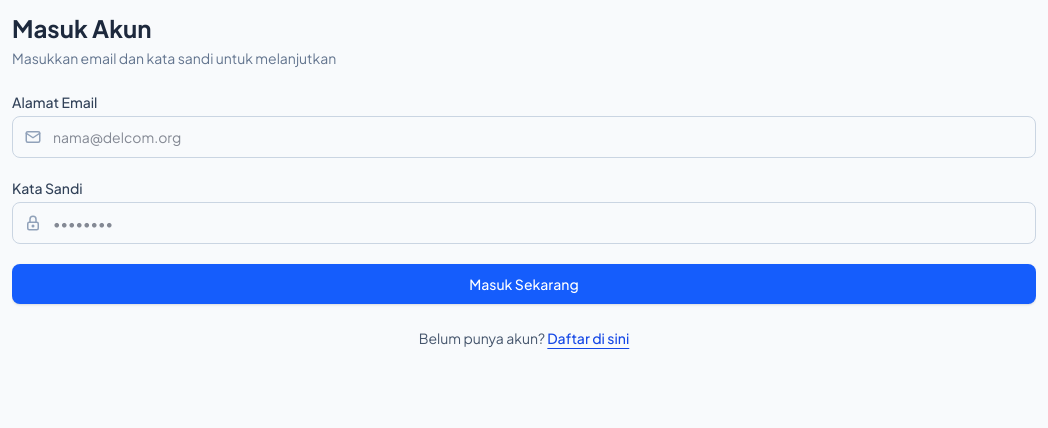
it: LoginPage › should handle failed login
Type "user@delcom.org" into the field with id "login-email-input" at (524, 137), box top-left (12, 116), bottom-right (1036, 158)
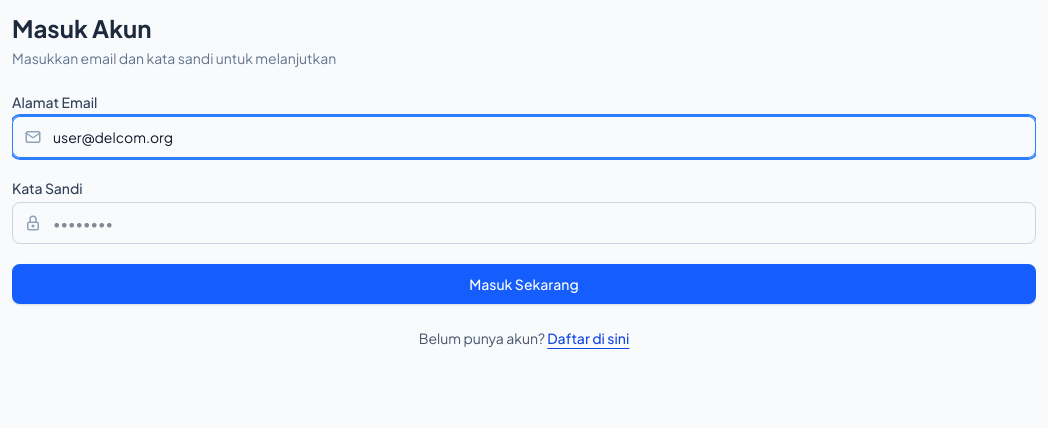
Type "wrongpassword" into the password field with id "login-password-input" at (524, 223), box top-left (12, 202), bottom-right (1036, 244)
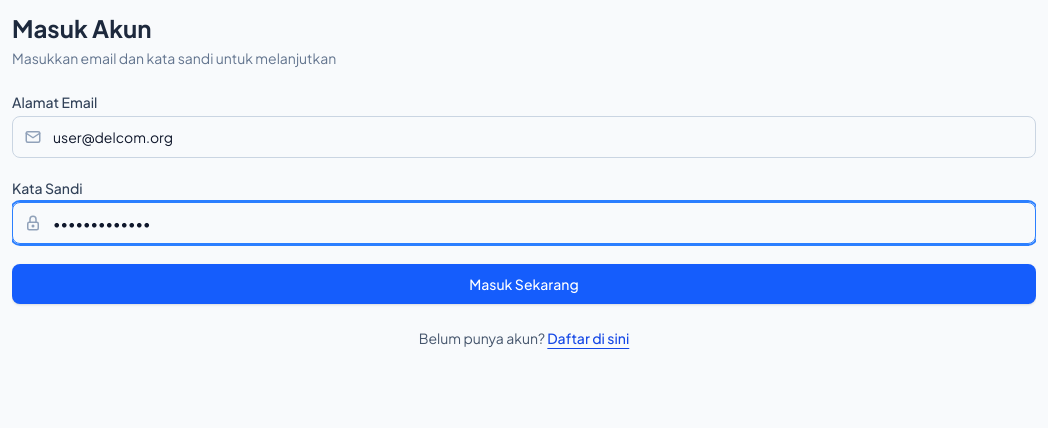
Click the button with id "login-submit-button" at (524, 284), box top-left (12, 264), bottom-right (1036, 304)
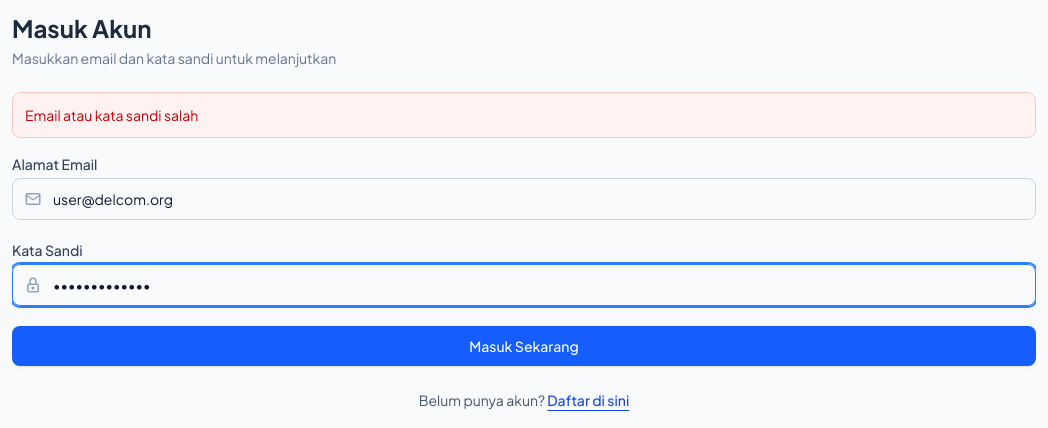
Expected: the message reads "Email atau kata sandi salah", top-left (25, 106), bottom-right (198, 124)
